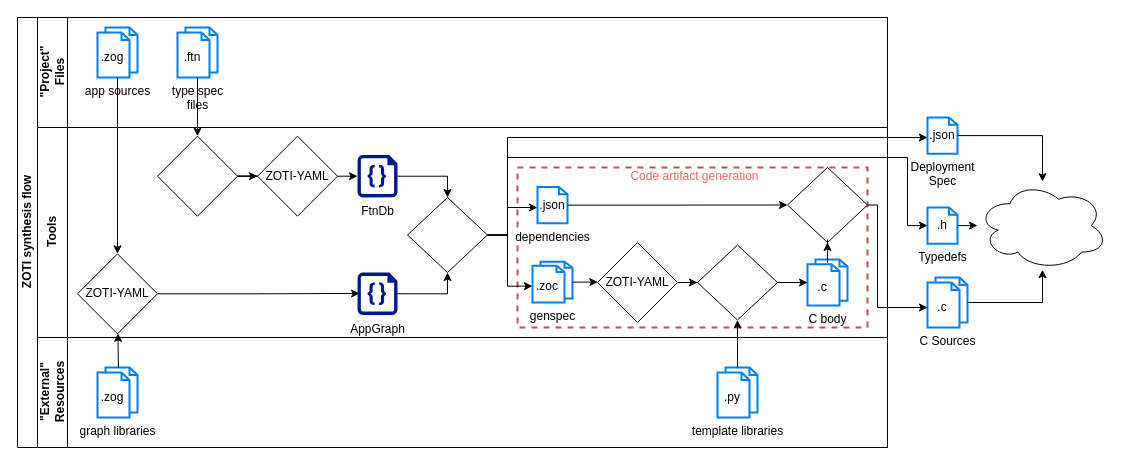
Image size: 1125x465. Some labels were removed from this diagram. The centre of each missing label's shape, as x and y in pixels:
Compilation Linking Deployment: (1042,225)
postproc: (827,204)
ZOTI-FTN parser: (197,175)
ZOTI-Gen: (737,282)
ZOTI-Tran: (447,234)
